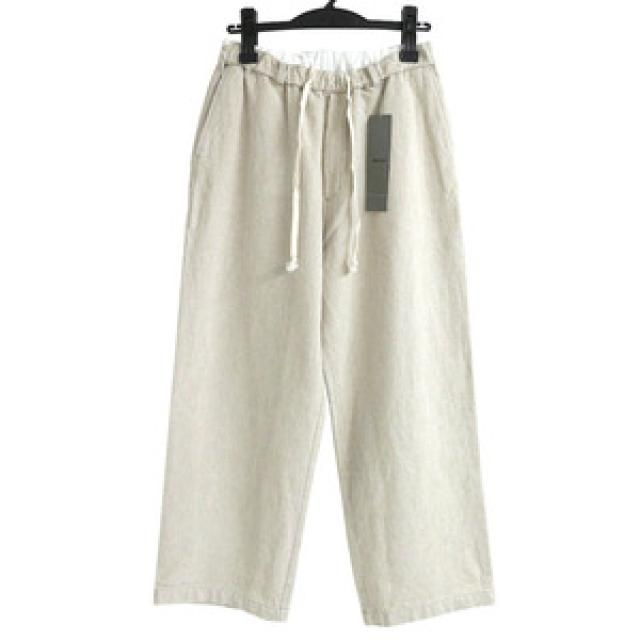long-pants: (154, 37, 498, 628)
